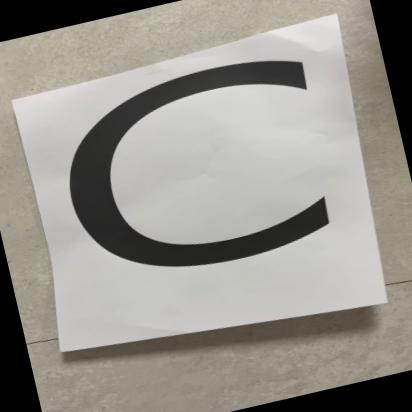seat: (13, 31, 392, 365), (16, 30, 378, 353)
